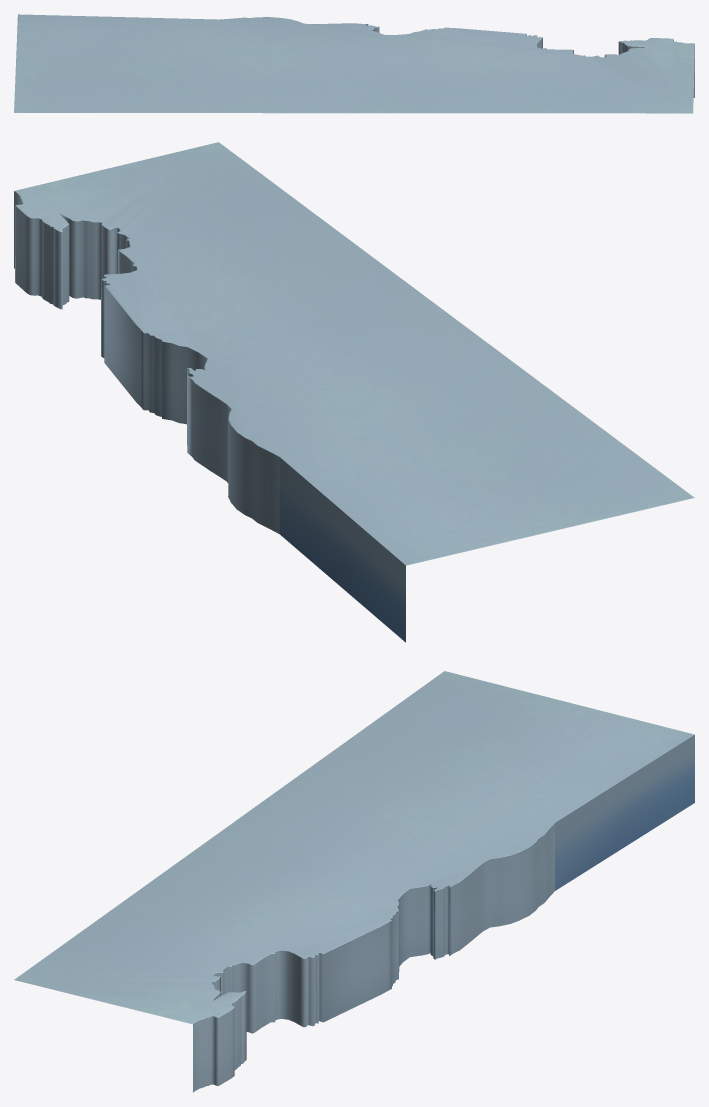
The model's file is LoverClif01.gltf.
3 renders of one model, top to bottom at view 1: azimuth 30°, elevation 25°; view 2: azimuth 150°, elevation 25°; view 3: azimuth 270°, elevation 25°, orthographic. The views are drawn at different scales.
Visible parts, largest first — view 1: SM_LowerCliff; view 2: SM_LowerCliff; view 3: SM_LowerCliff.
Boxes of the visible parts, <box> form: SM_LowerCliff: <box>14,14,694,113</box>; SM_LowerCliff: <box>14,142,694,642</box>; SM_LowerCliff: <box>14,671,694,1092</box>.
Bounding box in the file's own units: 23.44 × 2.16 × 19.
Materials: 1 (1 with a texture image).
